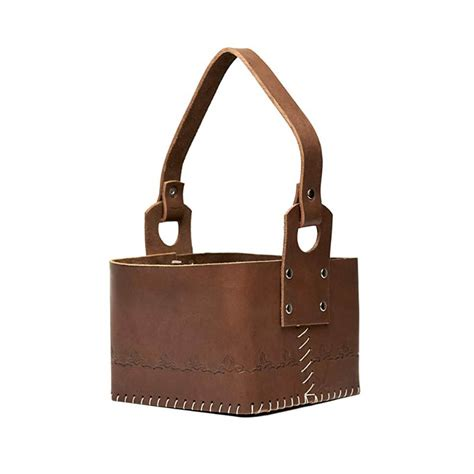cuero: (106, 46, 363, 417)
